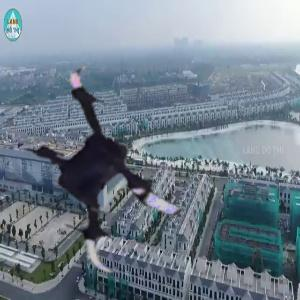drone: (6, 66, 221, 281)
